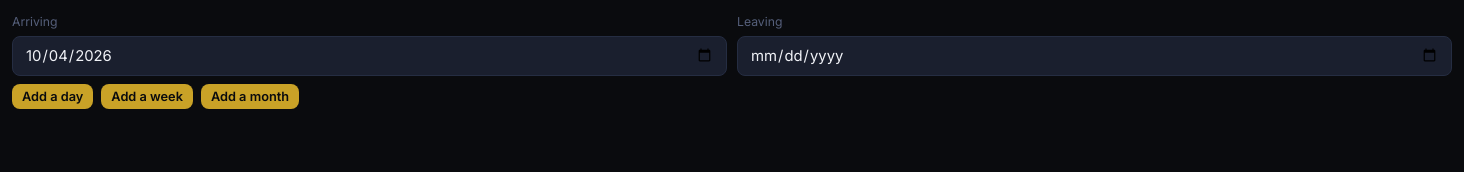
Scenario: New Reservation — Add a day / Add a week / Add a month › Add a month is one calendar month, across month lengths
Click the button "Add a month".
click(250, 96)  # box [201, 84, 299, 109]
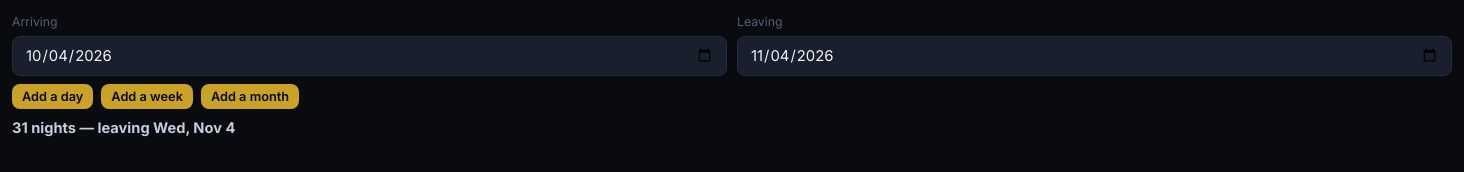
Result: the text with test id "resv-nights" reads "31 nights — leaving Wed, Nov 4" at [12, 119, 235, 137]
Click the button "Add a month".
click(250, 96)  # box [201, 84, 299, 109]
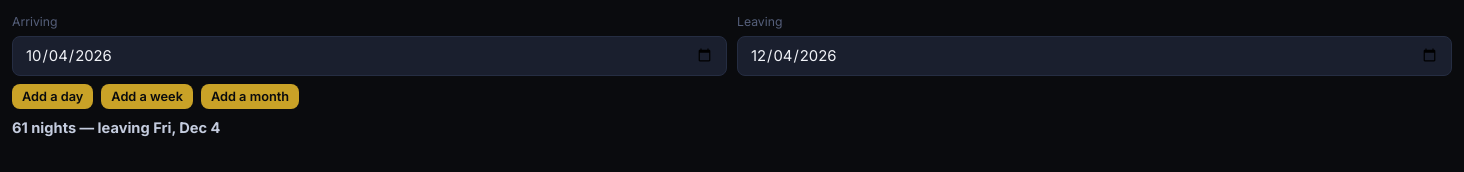
Result: the text with test id "resv-nights" reads "61 nights — leaving Fri, Dec 4" at [12, 119, 220, 137]
